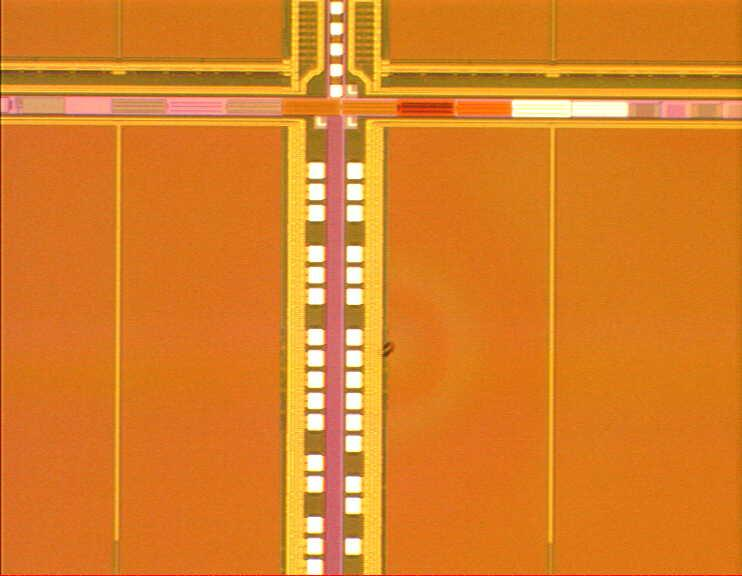PIQ PARTICLE: (377, 339, 397, 359)
